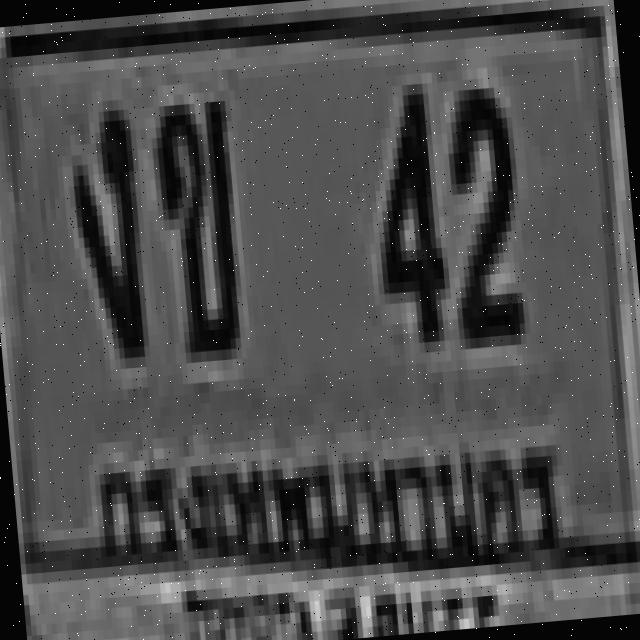11KhorKhai: (147, 90, 240, 354)
16NgorNgu: (62, 99, 144, 351)
2: (434, 76, 522, 340)
4: (360, 73, 443, 335)
